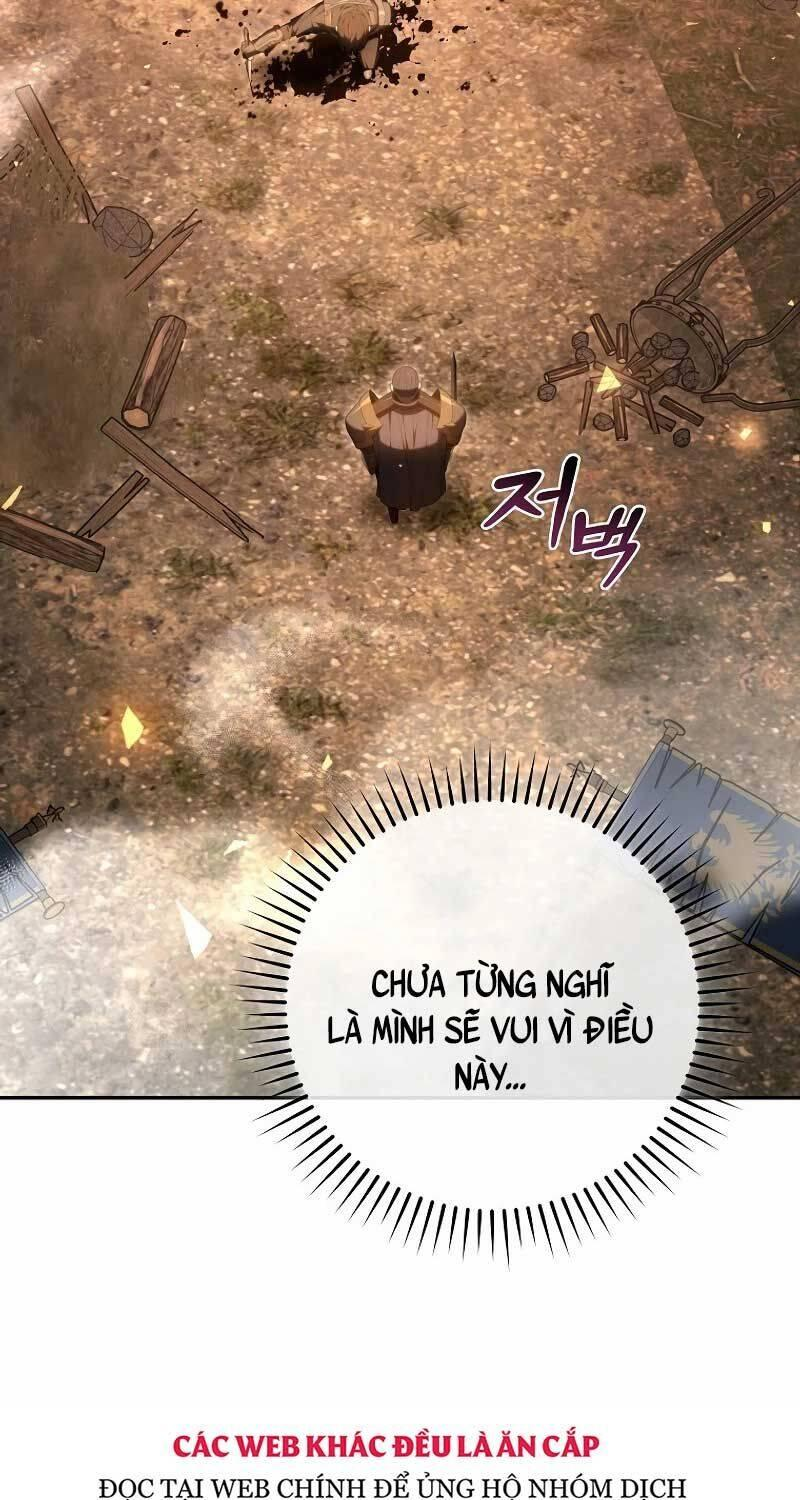quangcao: (88, 1416, 720, 1500)
